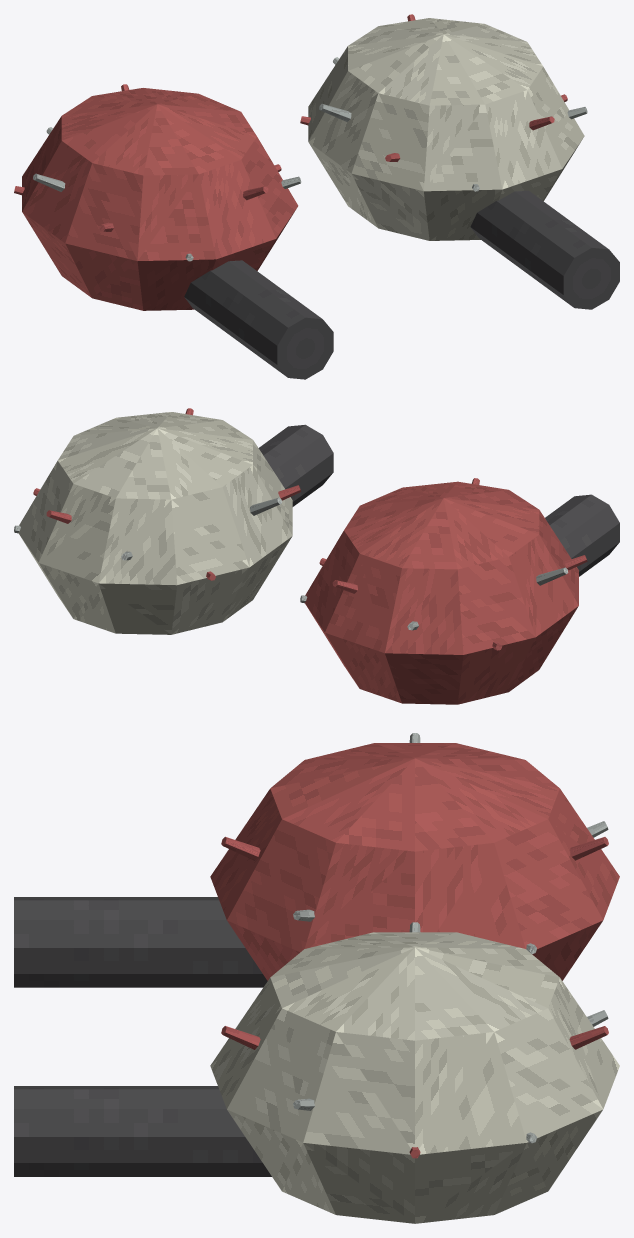
The model's file is pom_poms.glb.
3 renders of one model, top to bottom at view 1: azimuth 30°, elevation 25°; view 2: azimuth 150°, elevation 25°; view 3: azimuth 270°, elevation 25°, orthographic. The views are drawn at different scales.
Visible parts, largest first — view 1: block_tinsel tuft (×2), block_grip (×2); view 2: block_tinsel tuft (×2), block_grip (×2); view 3: block_tinsel tuft (×2), block_grip (×2).
Boxes of the visible parts, x1,y1,x2,y2 form: block_tinsel tuft (×2): (22,18,584,310); block_grip (×2): (184,190,619,379); block_tinsel tuft (×2): (18,412,578,704); block_grip (×2): (258,424,619,576); block_tinsel tuft (×2): (210,743,619,1223); block_grip (×2): (14,897,271,1176).
Size of the model in its own units: 0.1 by 0.0343 by 0.0728.
Materials: 1 (1 with a texture image).
